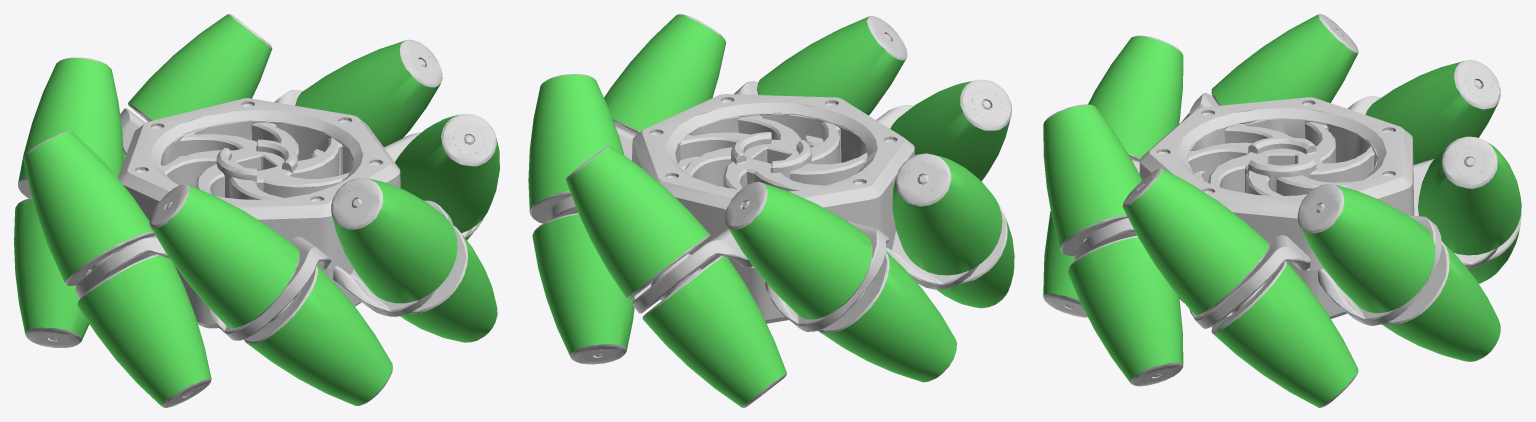
The model's file is MechanumWheel.fbx.
3 views of the same model, side by side, from view 1: azimuth 30°, elevation 25°; view 2: azimuth 150°, elevation 25°; view 3: azimuth 270°, elevation 25° (orthographic).
Parts seen in each view (by area): view 1: MECN 4in; view 2: MECN 4in; view 3: MECN 4in.
Boxes of the visible parts, x1=… form: MECN 4in: x1=14, y1=14, x2=499, y2=407; MECN 4in: x1=528, y1=14, x2=1014, y2=407; MECN 4in: x1=1043, y1=14, x2=1521, y2=407.
Bounding box in the file's own units: 400 × 200 × 400.
